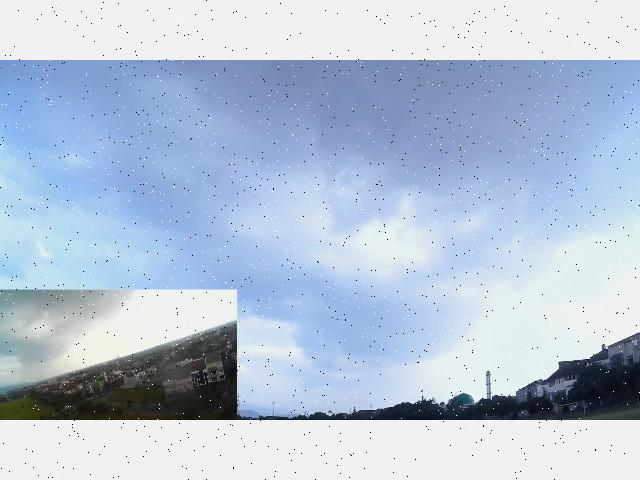Anti-Drone: (296, 248, 314, 258)
